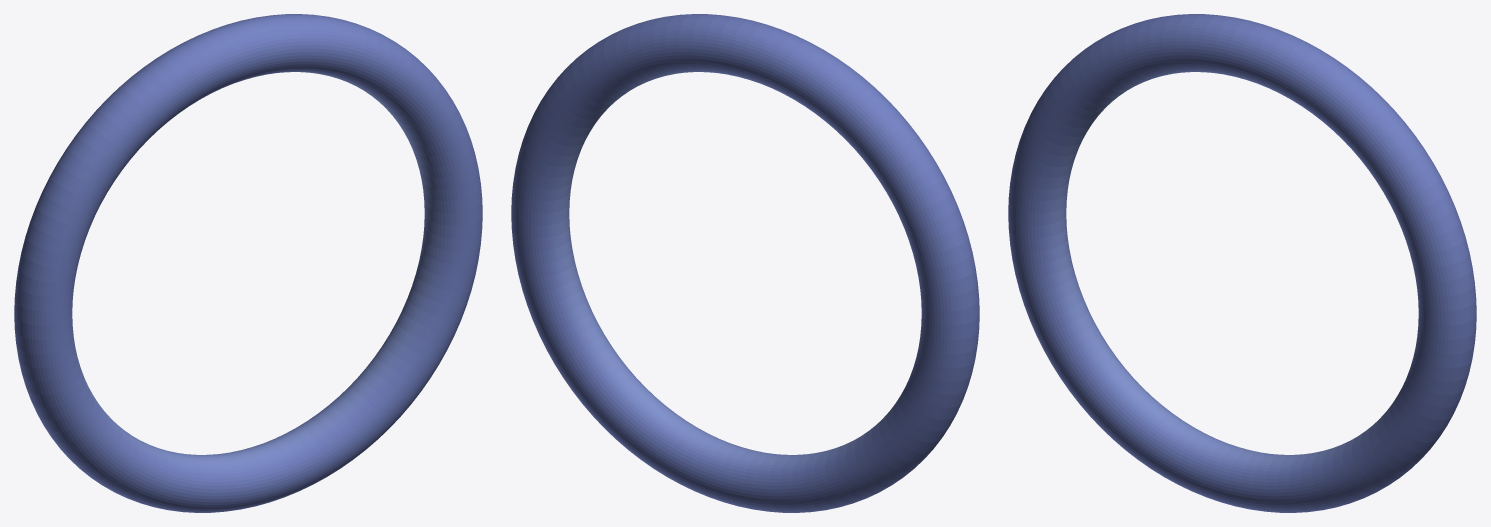
3 views of the same model, side by side, from view 1: azimuth 30°, elevation 25°; view 2: azimuth 150°, elevation 25°; view 3: azimuth 330°, elevation 25° (orthographic).
Visible parts, largest first — view 1: world; view 2: world; view 3: world.
Boxes of the visible parts, left/top/right/bottom form: world: left=14, top=14, right=482, bottom=512; world: left=511, top=14, right=979, bottom=512; world: left=1008, top=14, right=1476, bottom=512.
Size of the model in its own units: 23.2 by 23.2 by 2.53.
